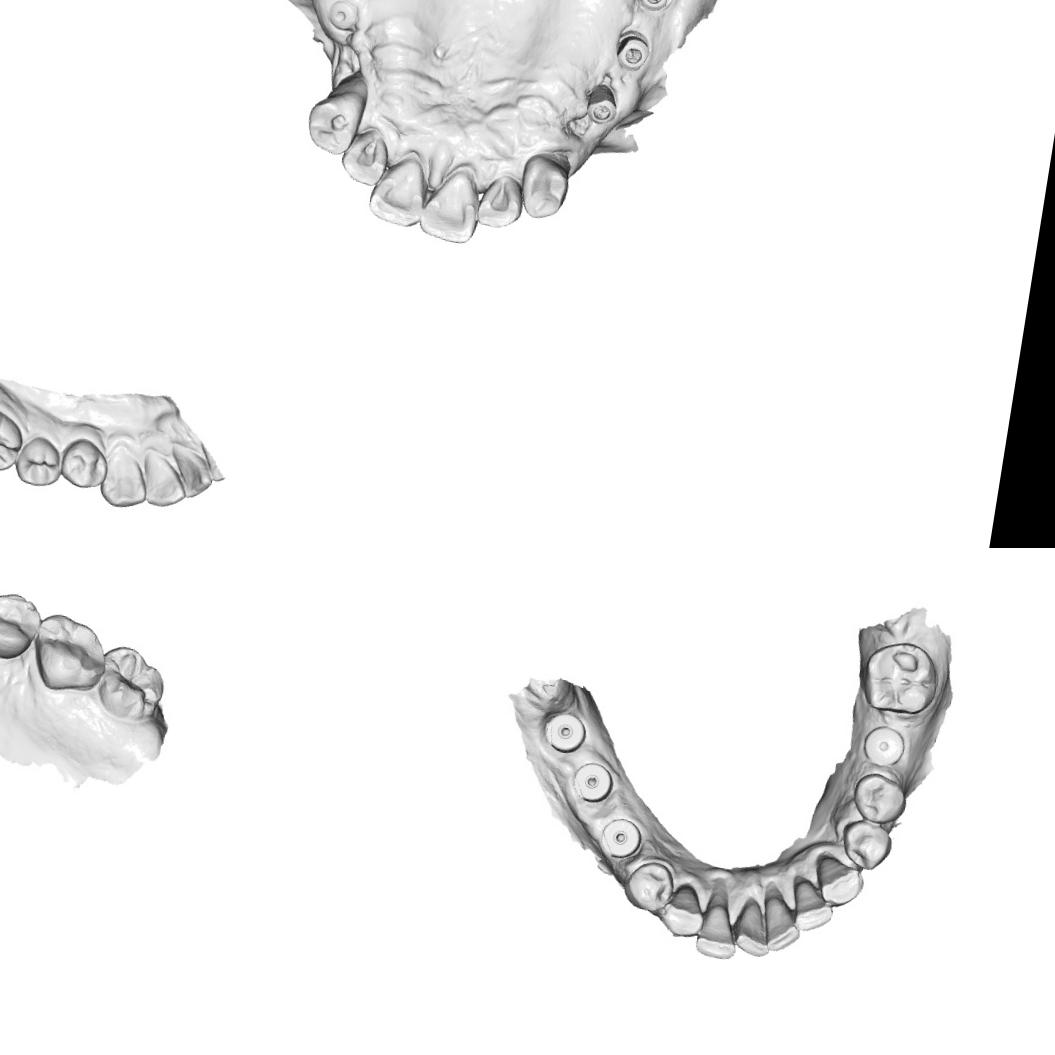canine: (302, 84, 368, 159), (514, 152, 572, 223), (810, 848, 868, 910), (97, 450, 152, 511), (656, 880, 711, 941)
implant: (539, 708, 591, 758), (594, 814, 647, 863), (859, 721, 910, 771), (568, 757, 617, 807), (613, 30, 654, 75), (583, 81, 622, 128), (636, 0, 672, 12)
incisor: (416, 164, 486, 248), (364, 152, 432, 231), (337, 125, 393, 190), (756, 886, 808, 956), (692, 895, 744, 964), (786, 871, 840, 936), (728, 894, 780, 960), (475, 170, 528, 234), (139, 450, 192, 512), (168, 442, 218, 502)
molar: (26, 608, 114, 699), (856, 635, 944, 721), (94, 640, 174, 728), (0, 400, 28, 474)
premolar: (848, 768, 911, 829), (838, 814, 897, 875), (0, 584, 43, 665), (620, 857, 678, 917), (11, 432, 66, 490), (58, 435, 112, 492)
